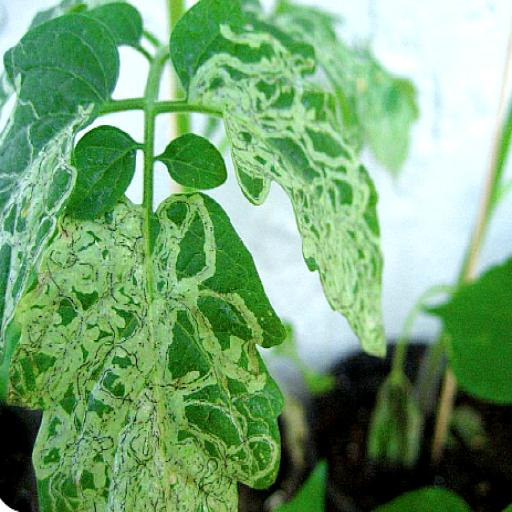Leaf Miner: (0, 191, 288, 512), (170, 0, 392, 360)
